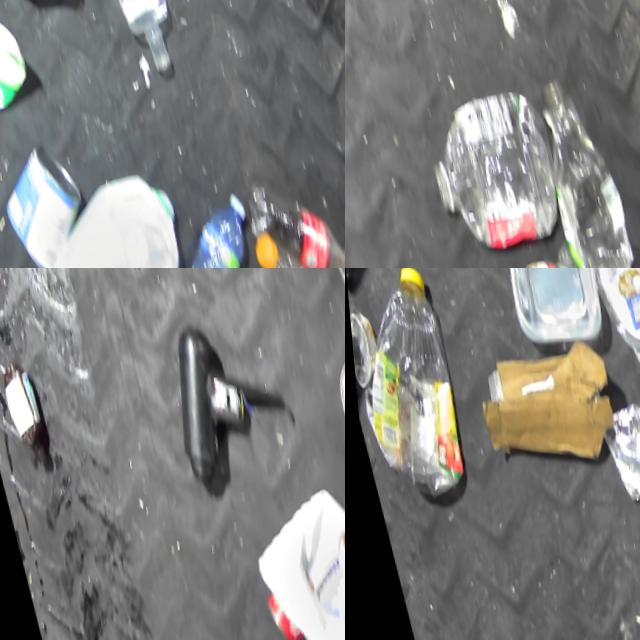can: (18, 165, 196, 268), (0, 135, 92, 268), (589, 399, 640, 511), (324, 356, 345, 460)
milk_jug: (232, 478, 345, 640)
plastic_bottle: (345, 268, 472, 511), (404, 85, 563, 267), (520, 67, 636, 268), (228, 170, 345, 268), (580, 268, 640, 430), (240, 221, 345, 268)
